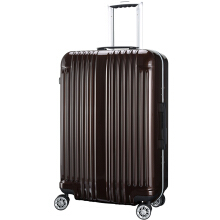luggage: (53, 0, 170, 220)
